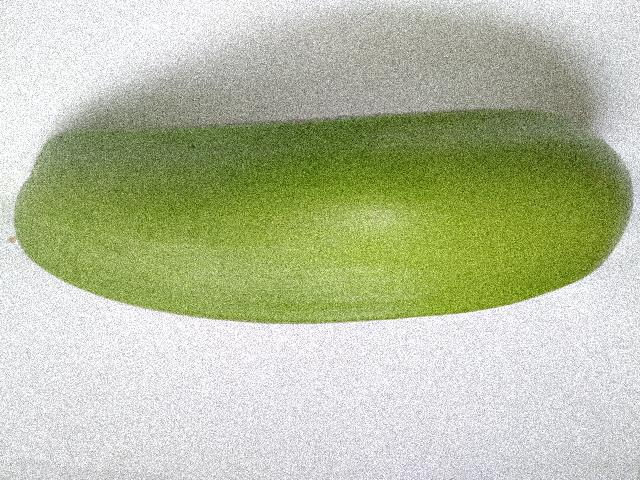freshunripe: (10, 66, 638, 348)
